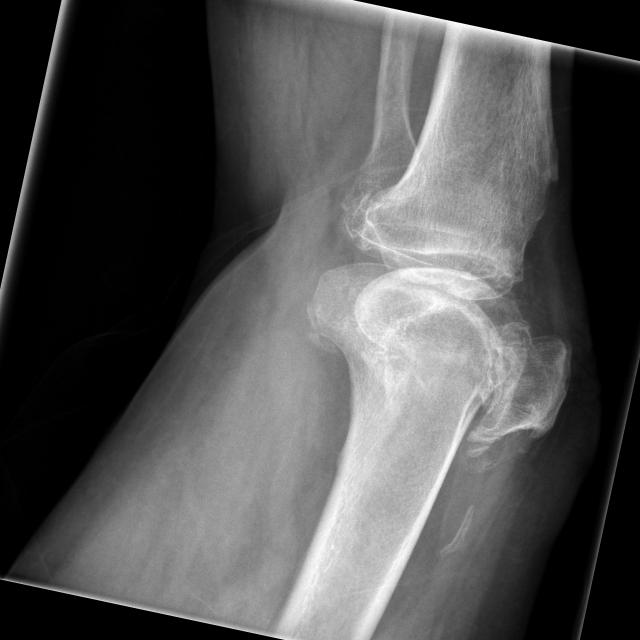Knee: (283, 186, 598, 479)
